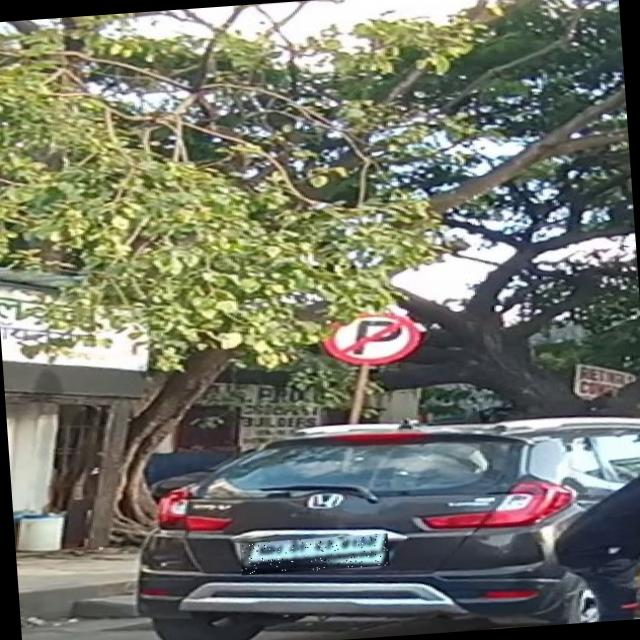Plate: (241, 534, 391, 576)
